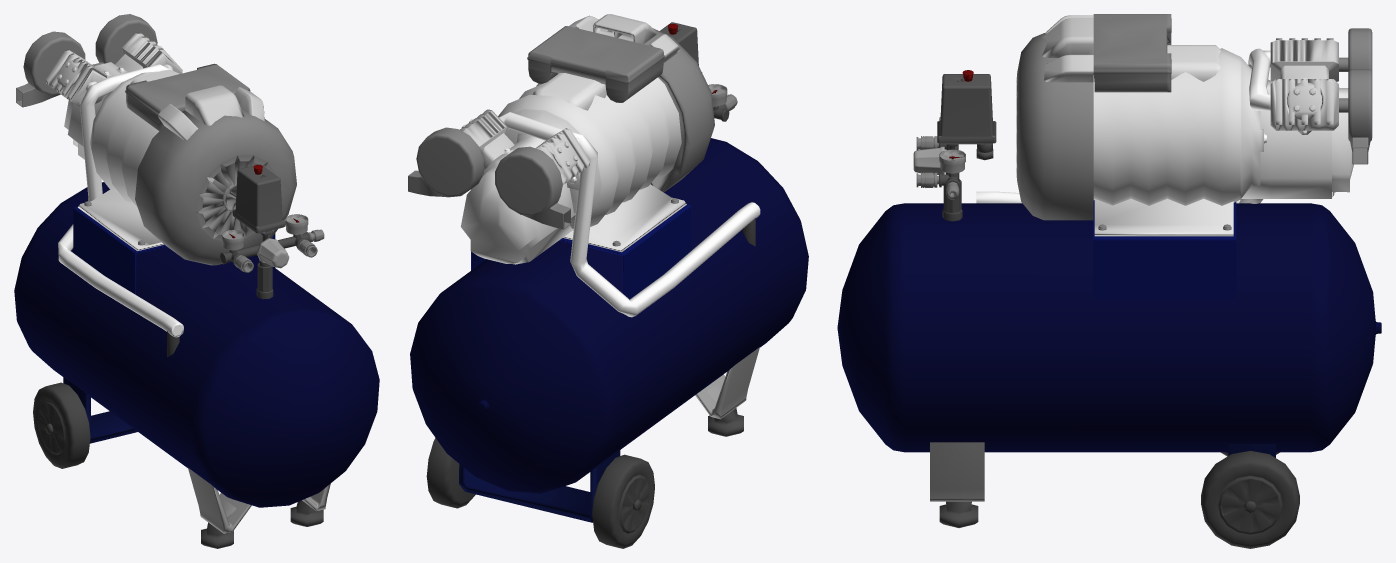
Rendered from Compressor_V1.1.fbx.
The picture shows the model from 3 angles, left to right: view 1: azimuth 30°, elevation 25°; view 2: azimuth 150°, elevation 25°; view 3: azimuth 270°, elevation 25°; orthographic projection. The views are drawn at different scales.
Visible parts, largest first — view 1: Compressor_Tank, Compressor_Engine, Compressor_Valve, Compressor_Tube; view 2: Compressor_Tank, Compressor_Engine, Compressor_Tube, Compressor_Valve; view 3: Compressor_Tank, Compressor_Engine, Compressor_Valve, Compressor_Tube.
Part boxes in pixels (left/top/right/bottom): Compressor_Tank: left=14, top=182, right=379, bottom=548; Compressor_Engine: left=16, top=14, right=296, bottom=265; Compressor_Valve: left=220, top=164, right=324, bottom=299; Compressor_Tube: left=58, top=64, right=183, bottom=337; Compressor_Tank: left=410, top=138, right=808, bottom=548; Compressor_Engine: left=408, top=14, right=714, bottom=264; Compressor_Tube: left=499, top=112, right=760, bottom=317; Compressor_Valve: left=659, top=22, right=737, bottom=121; Compressor_Tank: left=837, top=200, right=1381, bottom=548; Compressor_Engine: left=1016, top=14, right=1372, bottom=236; Compressor_Valve: left=913, top=70, right=996, bottom=221; Compressor_Tube: left=976, top=48, right=1270, bottom=203.
Size of the model in its own units: 91.47 by 192 by 200.
